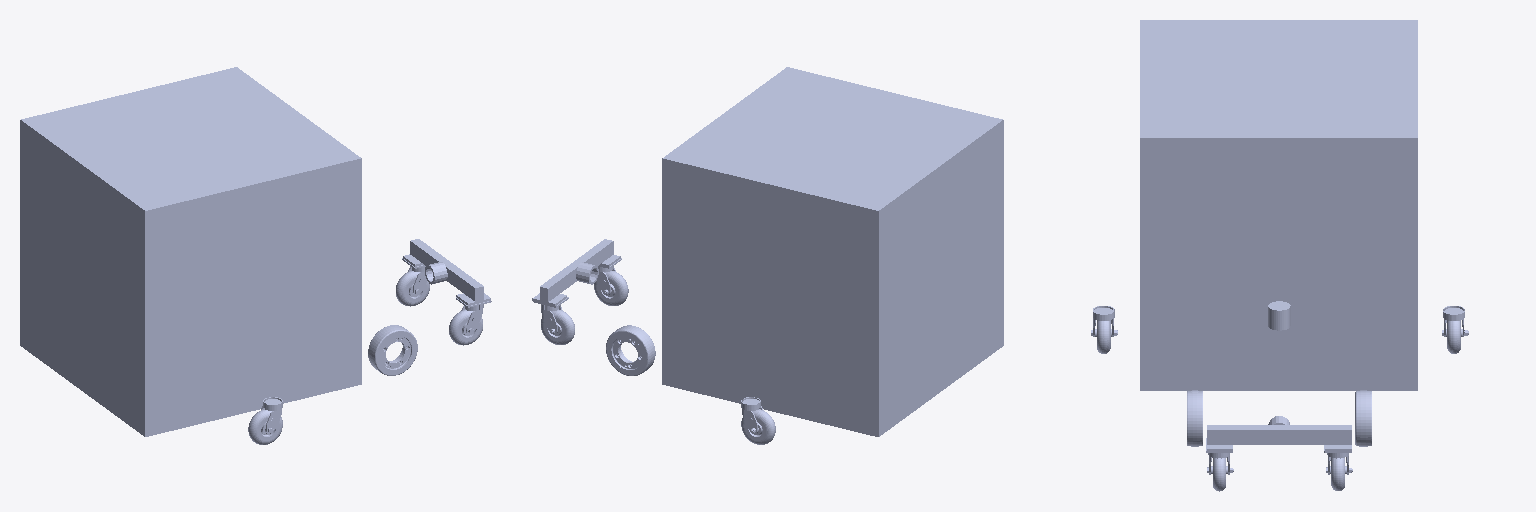
robot.urdf — exfork_bot:
<?xml version="1.0" encoding="utf-8"?>
<!-- This URDF was automatically created by SolidWorks to URDF Exporter! Originally created by [author] ([email redacted]) 
     Commit Version: 1.6.0-4-g7f85cfe  Build Version: 1.6.7995.38578
     For more information, please see http://wiki.ros.org/sw_urdf_exporter -->
<robot
  name="exfork_bot">
  <link
    name="base_footprint">
    <inertial>
      <origin
        xyz="0 0 0.015"
        rpy="0 0 0" />
      <mass
        value="9.42477796076939E-05" />
      <inertia
        ixx="7.09214541547898E-09"
        ixy="1.89326617253043E-28"
        ixz="-3.23117426778518E-27"
        iyy="7.09214541547898E-09"
        iyz="-2.58493941422821E-26"
        izz="4.71238898038469E-11" />
    </inertial>
    <visual>
      <origin
        xyz="0 0 0"
        rpy="0 0 0" />
      <geometry>
        <mesh
          filename="package://exfork_bot/meshes/base_footprint.STL" />
      </geometry>
      <material
        name="">
        <color
          rgba="0.792156862745098 0.819607843137255 0.933333333333333 1" />
      </material>
    </visual>
    <collision>
      <origin
        xyz="0 0 0"
        rpy="0 0 0" />
      <geometry>
        <mesh
          filename="package://exfork_bot/meshes/base_footprint.STL" />
      </geometry>
    </collision>
  </link>
  <link
    name="base_link">
    <inertial>
      <origin
        xyz="0.24419 -4.5799E-06 0.16554"
        rpy="0 0 0" />
      <mass
        value="28.317" />
      <inertia
        ixx="2.9156"
        ixy="0.0001163"
        ixz="-0.32989"
        iyy="2.612"
        iyz="3.0777E-05"
        izz="4.9812" />
    </inertial>
    <visual>
      <origin
        xyz="0 0 0"
        rpy="0 0 0" />
      <geometry>
        <mesh
          filename="package://exfork_bot/meshes/base_link.STL" />
      </geometry>
      <material
        name="">
        <color
          rgba="0.79216 0.81961 0.93333 1" />
      </material>
    </visual>
    <collision>
      <origin
        xyz="0 0 0"
        rpy="0 0 0" />
      <geometry>
        <mesh
          filename="package://exfork_bot/meshes/base_link.STL" />
      </geometry>
    </collision>
  </link>
  <joint
    name="base_joint"
    type="fixed">
    <origin
      xyz="-0.45174 0 0.04"
      rpy="0 0 0" />
    <parent
      link="base_footprint" />
    <child
      link="base_link" />
    <axis
      xyz="0 0 0" />
  </joint>
  <link
    name="l_wheel_link">
    <inertial>
      <origin
        xyz="1.5453E-08 -0.021167 1.6511E-08"
        rpy="0 0 0" />
      <mass
        value="1.2164" />
      <inertia
        ixx="0.0044416"
        ixy="-4.7872E-11"
        ixz="-4.9256E-07"
        iyy="0.0082257"
        iyz="-7.4615E-11"
        izz="0.0044446" />
    </inertial>
    <visual>
      <origin
        xyz="0 0 0"
        rpy="0 0 0" />
      <geometry>
        <mesh
          filename="package://exfork_bot/meshes/l_wheel_link.STL" />
      </geometry>
      <material
        name="">
        <color
          rgba="0.79216 0.81961 0.93333 1" />
      </material>
    </visual>
    <collision>
      <origin
        xyz="0 0 0"
        rpy="0 0 0" />
      <geometry>
        <mesh
          filename="package://exfork_bot/meshes/l_wheel_link.STL" />
      </geometry>
    </collision>
  </link>
  <joint
    name="l_wheel_joint"
    type="continuous">
    <origin
      xyz="0.46674 0.3245 0.06"
      rpy="0 0 0" />
    <parent
      link="base_link" />
    <child
      link="l_wheel_link" />
    <axis
      xyz="0 1 0" />
  </joint>
  <link
    name="r_wheel_link">
    <inertial>
      <origin
        xyz="9.6608E-09 0.021167 -2.0447E-08"
        rpy="0 0 0" />
      <mass
        value="1.2164" />
      <inertia
        ixx="0.0044421"
        ixy="5.3112E-11"
        ixz="1.2861E-06"
        iyy="0.0082257"
        iyz="-1.1243E-10"
        izz="0.004444" />
    </inertial>
    <visual>
      <origin
        xyz="0 0 0"
        rpy="0 0 0" />
      <geometry>
        <mesh
          filename="package://exfork_bot/meshes/r_wheel_link.STL" />
      </geometry>
      <material
        name="">
        <color
          rgba="0.79216 0.81961 0.93333 1" />
      </material>
    </visual>
    <collision>
      <origin
        xyz="0 0 0"
        rpy="0 0 0" />
      <geometry>
        <mesh
          filename="package://exfork_bot/meshes/r_wheel_link.STL" />
      </geometry>
    </collision>
  </link>
  <joint
    name="r_wheel_joint"
    type="continuous">
    <origin
      xyz="0.46674 -0.3245 0.06"
      rpy="0 0 0" />
    <parent
      link="base_link" />
    <child
      link="r_wheel_link" />
    <axis
      xyz="0 1 0" />
  </joint>
  <link
    name="laser_link">
    <inertial>
      <origin
        xyz="0 2.22044604925031E-16 -0.0394999999999999"
        rpy="0 0 0" />
      <mass
        value="0.39709731141375" />
      <inertia
        ixx="0.000365362617943268"
        ixy="0"
        ixz="1.21245706409418E-36"
        iyy="0.000365362617943268"
        iyz="-1.73102161812249E-35"
        izz="0.000317677849131001" />
    </inertial>
    <visual>
      <origin
        xyz="0 0 0"
        rpy="0 0 0" />
      <geometry>
        <mesh
          filename="package://exfork_bot/meshes/laser_link.STL" />
      </geometry>
      <material
        name="">
        <color
          rgba="0.792156862745098 0.819607843137255 0.933333333333333 1" />
      </material>
    </visual>
    <collision>
      <origin
        xyz="0 0 0"
        rpy="0 0 0" />
      <geometry>
        <mesh
          filename="package://exfork_bot/meshes/laser_link.STL" />
      </geometry>
    </collision>
  </link>
  <joint
    name="laser_joint"
    type="fixed">
    <origin
      xyz="0.45174 0 0.499"
      rpy="0 0 0" />
    <parent
      link="base_link" />
    <child
      link="laser_link" />
    <axis
      xyz="0 0 1" />
  </joint>
  <link
    name="casterarm_link">
    <inertial>
      <origin
        xyz="0.0760985533679645 -0.000230950841213717 -0.00827895192140704"
        rpy="0 0 0" />
      <mass
        value="1.79739905628811" />
      <inertia
        ixx="0.0388652941823"
        ixy="-3.74697430196857E-11"
        ixz="2.29003773192072E-05"
        iyy="0.00152979650498498"
        iyz="-1.08176244596861E-12"
        izz="0.0390330217726287" />
    </inertial>
    <visual>
      <origin
        xyz="0 0 0"
        rpy="0 0 0" />
      <geometry>
        <mesh
          filename="package://exfork_bot/meshes/casterarm_link.STL" />
      </geometry>
      <material
        name="">
        <color
          rgba="0.792156862745098 0.819607843137255 0.933333333333333 1" />
      </material>
    </visual>
    <collision>
      <origin
        xyz="0 0 0"
        rpy="0 0 0" />
      <geometry>
        <mesh
          filename="package://exfork_bot/meshes/casterarm_link.STL" />
      </geometry>
    </collision>
  </link>
  <joint
    name="casterarm_joint"
    type="continuous">
    <origin
      xyz="0.81205 0 0.1919"
      rpy="0 0 0" />
    <parent
      link="base_link" />
    <child
      link="casterarm_link" />
    <axis
      xyz="1 0 0" />
  </joint>
  <link
    name="caster1brkt_link">
    <inertial>
      <origin
        xyz="-0.00965828711006669 0.000371567422426722 -0.0440478994782961"
        rpy="0 0 0" />
      <mass
        value="0.182687039498993" />
      <inertia
        ixx="9.53962306279551E-05"
        ixy="1.05992172458199E-11"
        ixz="-1.40549307375338E-05"
        iyy="0.000101866845190863"
        iyz="6.82223367474751E-12"
        izz="0.000114704567301255" />
    </inertial>
    <visual>
      <origin
        xyz="0 0 0"
        rpy="0 0 0" />
      <geometry>
        <mesh
          filename="package://exfork_bot/meshes/caster1brkt_link.STL" />
      </geometry>
      <material
        name="">
        <color
          rgba="0.792156862745098 0.819607843137255 0.933333333333333 1" />
      </material>
    </visual>
    <collision>
      <origin
        xyz="0 0 0"
        rpy="0 0 0" />
      <geometry>
        <mesh
          filename="package://exfork_bot/meshes/caster1brkt_link.STL" />
      </geometry>
    </collision>
  </link>
  <joint
    name="caster1brkt_joint"
    type="continuous">
    <origin
      xyz="0.078 0.21133 -0.049249"
      rpy="0 0 0" />
    <parent
      link="casterarm_link" />
    <child
      link="caster1brkt_link" />
    <axis
      xyz="0 0 1" />
  </joint>
  <link
    name="caster1_link">
    <inertial>
      <origin
        xyz="-2.59431003513111E-07 -0.0249999395947416 1.65578340038941E-07"
        rpy="0 0 0" />
      <mass
        value="0.707028008737105" />
      <inertia
        ixx="0.0011142884489179"
        ixy="1.88390347320121E-10"
        ixz="-2.22191413272749E-09"
        iyy="0.00199724216026165"
        iyz="-6.35110944676939E-11"
        izz="0.00111428895047491" />
    </inertial>
    <visual>
      <origin
        xyz="0 0 0"
        rpy="0 0 0" />
      <geometry>
        <mesh
          filename="package://exfork_bot/meshes/caster1_link.STL" />
      </geometry>
      <material
        name="">
        <color
          rgba="0.792156862745098 0.819607843137255 0.933333333333333 1" />
      </material>
    </visual>
    <collision>
      <origin
        xyz="0 0 0"
        rpy="0 0 0" />
      <geometry>
        <mesh
          filename="package://exfork_bot/meshes/caster1_link.STL" />
      </geometry>
    </collision>
  </link>
  <joint
    name="caster1_joint"
    type="continuous">
    <origin
      xyz="-0.034301 0.025 -0.1064"
      rpy="0 0 0" />
    <parent
      link="caster1brkt_link" />
    <child
      link="caster1_link" />
    <axis
      xyz="0 0 1" />
  </joint>
  <link
    name="caster2brkt_link">
    <inertial>
      <origin
        xyz="-0.00965828710201835 0.000371567422425834 -0.0440478994782963"
        rpy="0 0 0" />
      <mass
        value="0.182687039498993" />
      <inertia
        ixx="9.53962306279549E-05"
        ixy="1.05992172375589E-11"
        ixz="-1.40549307375336E-05"
        iyy="0.000101866845190862"
        iyz="6.82223367162919E-12"
        izz="0.000114704567301255" />
    </inertial>
    <visual>
      <origin
        xyz="0 0 0"
        rpy="0 0 0" />
      <geometry>
        <mesh
          filename="package://exfork_bot/meshes/caster2brkt_link.STL" />
      </geometry>
      <material
        name="">
        <color
          rgba="0.792156862745098 0.819607843137255 0.933333333333333 1" />
      </material>
    </visual>
    <collision>
      <origin
        xyz="0 0 0"
        rpy="0 0 0" />
      <geometry>
        <mesh
          filename="package://exfork_bot/meshes/caster2brkt_link.STL" />
      </geometry>
    </collision>
  </link>
  <joint
    name="caster2brkt_joint"
    type="continuous">
    <origin
      xyz="0.078 -0.21533 -0.049249"
      rpy="0 0 0" />
    <parent
      link="casterarm_link" />
    <child
      link="caster2brkt_link" />
    <axis
      xyz="0 0 1" />
  </joint>
  <link
    name="caster2_link">
    <inertial>
      <origin
        xyz="-2.59431003513111E-07 -0.0249999395947416 1.65578340038941E-07"
        rpy="0 0 0" />
      <mass
        value="0.707028008737105" />
      <inertia
        ixx="0.0011142884489179"
        ixy="1.88390347278457E-10"
        ixz="-2.22191413278026E-09"
        iyy="0.00199724216026165"
        iyz="-6.35110944127552E-11"
        izz="0.00111428895047491" />
    </inertial>
    <visual>
      <origin
        xyz="0 0 0"
        rpy="0 0 0" />
      <geometry>
        <mesh
          filename="package://exfork_bot/meshes/caster2_link.STL" />
      </geometry>
      <material
        name="">
        <color
          rgba="0.792156862745098 0.819607843137255 0.933333333333333 1" />
      </material>
    </visual>
    <collision>
      <origin
        xyz="0 0 0"
        rpy="0 0 0" />
      <geometry>
        <mesh
          filename="package://exfork_bot/meshes/caster2_link.STL" />
      </geometry>
    </collision>
  </link>
  <joint
    name="caster2_joint"
    type="continuous">
    <origin
      xyz="-0.034301 0.025 -0.1064"
      rpy="0 0 0" />
    <parent
      link="caster2brkt_link" />
    <child
      link="caster2_link" />
    <axis
      xyz="0 0 1" />
  </joint>
  <link
    name="caster3brkt_link">
    <inertial>
      <origin
        xyz="-0.0096583 0.00037157 -0.044048"
        rpy="0 0 0" />
      <mass
        value="0.18269" />
      <inertia
        ixx="9.5396E-05"
        ixy="1.0599E-11"
        ixz="-1.4055E-05"
        iyy="0.00010187"
        iyz="6.8222E-12"
        izz="0.0001147" />
    </inertial>
    <visual>
      <origin
        xyz="0 0 0"
        rpy="0 0 0" />
      <geometry>
        <mesh
          filename="package://exfork_bot/meshes/caster3brkt_link.STL" />
      </geometry>
      <material
        name="">
        <color
          rgba="0.79216 0.81961 0.93333 1" />
      </material>
    </visual>
    <collision>
      <origin
        xyz="0 0 0"
        rpy="0 0 0" />
      <geometry>
        <mesh
          filename="package://exfork_bot/meshes/caster3brkt_link.STL" />
      </geometry>
    </collision>
  </link>
  <joint
    name="caster3brkt_joint"
    type="continuous">
    <origin
      xyz="-0.27695 0.62704 0.14265"
      rpy="0 0 0" />
    <parent
      link="base_link" />
    <child
      link="caster3brkt_link" />
    <axis
      xyz="0 0 1" />
  </joint>
  <link
    name="caster3_link">
    <inertial>
      <origin
        xyz="-2.5943E-07 -0.025 1.6558E-07"
        rpy="0 0 0" />
      <mass
        value="0.70703" />
      <inertia
        ixx="0.0011143"
        ixy="1.8839E-10"
        ixz="-2.2219E-09"
        iyy="0.0019972"
        iyz="-6.3511E-11"
        izz="0.0011143" />
    </inertial>
    <visual>
      <origin
        xyz="0 0 0"
        rpy="0 0 0" />
      <geometry>
        <mesh
          filename="package://exfork_bot/meshes/caster3_link.STL" />
      </geometry>
      <material
        name="">
        <color
          rgba="0.79216 0.81961 0.93333 1" />
      </material>
    </visual>
    <collision>
      <origin
        xyz="0 0 0"
        rpy="0 0 0" />
      <geometry>
        <mesh
          filename="package://exfork_bot/meshes/caster3_link.STL" />
      </geometry>
    </collision>
  </link>
  <joint
    name="caster3_joint"
    type="continuous">
    <origin
      xyz="-0.034301 0.025 -0.1064"
      rpy="0 0 0" />
    <parent
      link="caster3brkt_link" />
    <child
      link="caster3_link" />
    <axis
      xyz="0 0 1" />
  </joint>
  <link
    name="caster4brkt_link">
    <inertial>
      <origin
        xyz="-0.0096583 0.00037157 -0.044048"
        rpy="0 0 0" />
      <mass
        value="0.18269" />
      <inertia
        ixx="9.5396E-05"
        ixy="1.0599E-11"
        ixz="-1.4055E-05"
        iyy="0.00010187"
        iyz="6.8222E-12"
        izz="0.0001147" />
    </inertial>
    <visual>
      <origin
        xyz="0 0 0"
        rpy="0 0 0" />
      <geometry>
        <mesh
          filename="package://exfork_bot/meshes/caster4brkt_link.STL" />
      </geometry>
      <material
        name="">
        <color
          rgba="0.79216 0.81961 0.93333 1" />
      </material>
    </visual>
    <collision>
      <origin
        xyz="0 0 0"
        rpy="0 0 0" />
      <geometry>
        <mesh
          filename="package://exfork_bot/meshes/caster4brkt_link.STL" />
      </geometry>
    </collision>
  </link>
  <joint
    name="caster4brkt_joint"
    type="continuous">
    <origin
      xyz="-0.27695 -0.63104 0.14265"
      rpy="0 0 0" />
    <parent
      link="base_link" />
    <child
      link="caster4brkt_link" />
    <axis
      xyz="0 0 1" />
  </joint>
  <link
    name="caster4_link">
    <inertial>
      <origin
        xyz="-2.5943E-07 0.025 1.6558E-07"
        rpy="0 0 0" />
      <mass
        value="0.70703" />
      <inertia
        ixx="0.0011143"
        ixy="1.8839E-10"
        ixz="-2.2219E-09"
        iyy="0.0019972"
        iyz="-6.3511E-11"
        izz="0.0011143" />
    </inertial>
    <visual>
      <origin
        xyz="0 0 0"
        rpy="0 0 0" />
      <geometry>
        <mesh
          filename="package://exfork_bot/meshes/caster4_link.STL" />
      </geometry>
      <material
        name="">
        <color
          rgba="0.79216 0.81961 0.93333 1" />
      </material>
    </visual>
    <collision>
      <origin
        xyz="0 0 0"
        rpy="0 0 0" />
      <geometry>
        <mesh
          filename="package://exfork_bot/meshes/caster4_link.STL" />
      </geometry>
    </collision>
  </link>
  <joint
    name="caster4_joint"
    type="continuous">
    <origin
      xyz="-0.034301 -0.025 -0.1064"
      rpy="0 0 0" />
    <parent
      link="caster4brkt_link" />
    <child
      link="caster4_link" />
    <axis
      xyz="0 0 1" />
  </joint>
  <link
    name="load_link">
    <inertial>
      <origin
        xyz="0 0 0.5"
        rpy="0 0 0" />
      <mass
        value="1000" />
      <inertia
        ixx="166.67"
        ixy="0"
        ixz="0"
        iyy="166.67"
        iyz="0"
        izz="166.67" />
    </inertial>
    <visual>
      <origin
        xyz="0 0 0"
        rpy="0 0 0" />
      <geometry>
        <mesh
          filename="package://exfork_bot/meshes/load_link.STL" />
      </geometry>
      <material
        name="">
        <color
          rgba="0.79216 0.81961 0.93333 1" />
      </material>
    </visual>
    <collision>
      <origin
        xyz="0 0 0"
        rpy="0 0 0" />
      <geometry>
        <mesh
          filename="package://exfork_bot/meshes/load_link.STL" />
      </geometry>
    </collision>
  </link>
  <joint
    name="load_joint"
    type="fixed">
    <origin
      xyz="-0.29248 -0.0010935 0.05"
      rpy="0 0 0" />
    <parent
      link="base_link" />
    <child
      link="load_link" />
    <axis
      xyz="0 1 0" />
  </joint>
</robot>

--- What the picture shows (computed from the rendered views, not written in the file) ---
3 views of the same robot in one strip: view 1: azimuth 30°, elevation 25°; view 2: azimuth 150°, elevation 25°; view 3: azimuth 270°, elevation 25° (orthographic).
Robot: exfork_bot — 15 links, 14 joints (11 continuous, 3 fixed); root link base_footprint; default pose: all joints at 0.
Visible links, largest first — view 1: load_link, casterarm_link, r_wheel_link, caster4_link, caster2_link, caster1_link; view 2: load_link, casterarm_link, l_wheel_link, caster3_link, caster1_link, caster2_link; view 3: load_link, casterarm_link, l_wheel_link, r_wheel_link, laser_link.
Boxes of the visible links, bbox=[...] form: load_link: bbox=[20, 67, 361, 436]; casterarm_link: bbox=[402, 239, 491, 307]; r_wheel_link: bbox=[368, 325, 417, 375]; caster4_link: bbox=[248, 409, 282, 444]; caster2_link: bbox=[449, 310, 482, 345]; caster1_link: bbox=[396, 271, 429, 306]; load_link: bbox=[662, 67, 1003, 436]; casterarm_link: bbox=[532, 239, 621, 307]; l_wheel_link: bbox=[606, 325, 655, 375]; caster3_link: bbox=[741, 409, 775, 444]; caster1_link: bbox=[541, 309, 574, 344]; caster2_link: bbox=[594, 271, 628, 305]; load_link: bbox=[1140, 20, 1417, 390]; casterarm_link: bbox=[1206, 416, 1351, 452]; l_wheel_link: bbox=[1355, 390, 1371, 446]; r_wheel_link: bbox=[1187, 390, 1202, 446]; laser_link: bbox=[1268, 301, 1290, 330].
Size in the robot's own frame: 1.74 by 1.36 by 1.09 metres.
14 mesh visuals loaded from 15 distinct referenced files (14 binary STL); not drawn: 1 (reference not matched to a file when rendering).